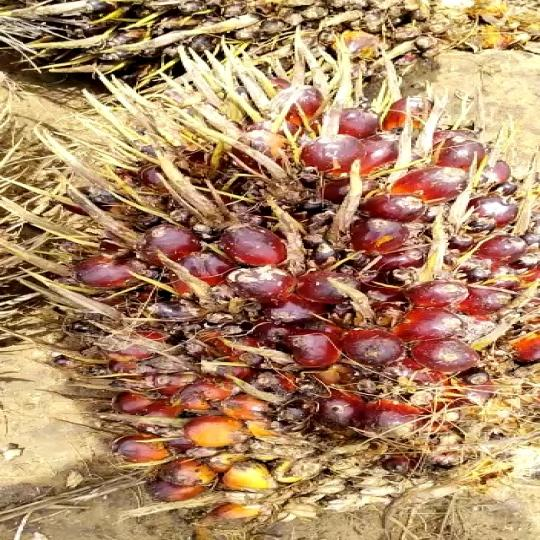masak: (13, 66, 540, 535)
